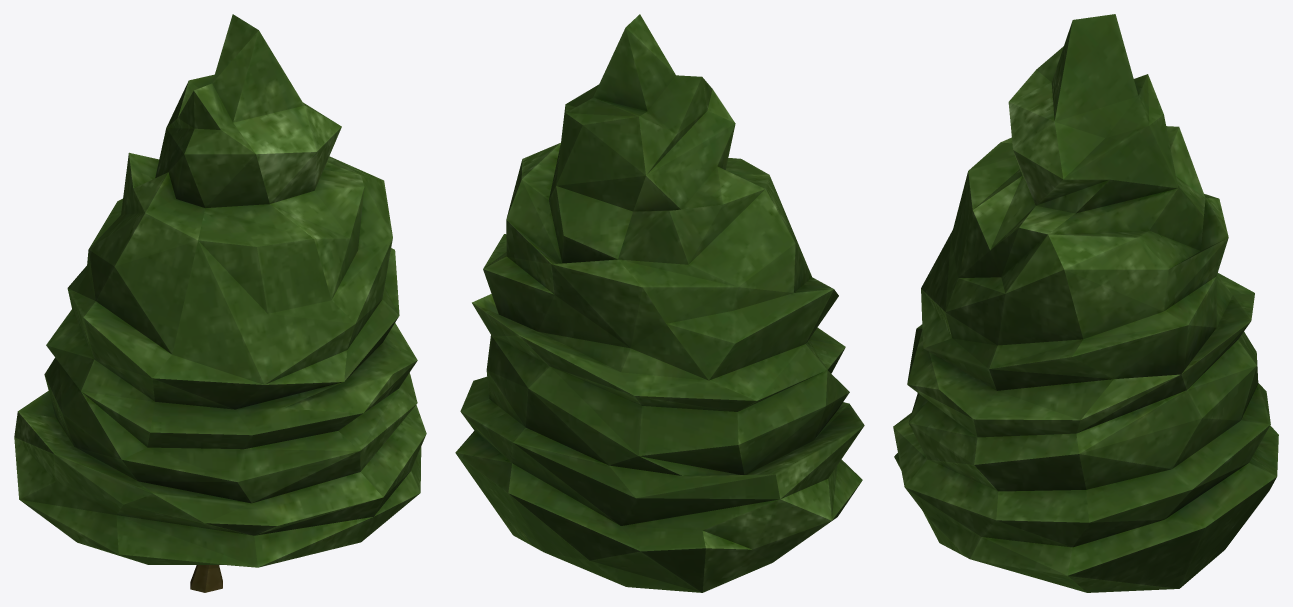
The model's file is ffuZy01LjQU.glb.
3 renders of one model, left to right at view 1: azimuth 30°, elevation 25°; view 2: azimuth 150°, elevation 25°; view 3: azimuth 270°, elevation 25°, orthographic. The views are drawn at different scales.
Visible parts, largest first — view 1: PineTree_mesh; view 2: PineTree_mesh; view 3: PineTree_mesh.
Part boxes in pixels (x1=…): PineTree_mesh: x1=14, y1=14, x2=426, y2=592; PineTree_mesh: x1=455, y1=14, x2=864, y2=592; PineTree_mesh: x1=893, y1=14, x2=1278, y2=592.
Bounding box in the file's own units: 0.7125 × 1 × 0.5994.
Materials: 1 (1 with a texture image).
